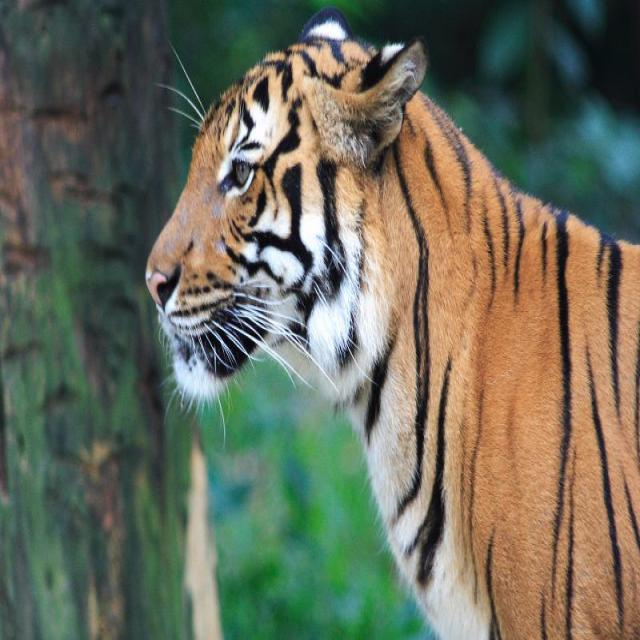Tiger: (141, 10, 639, 572)
